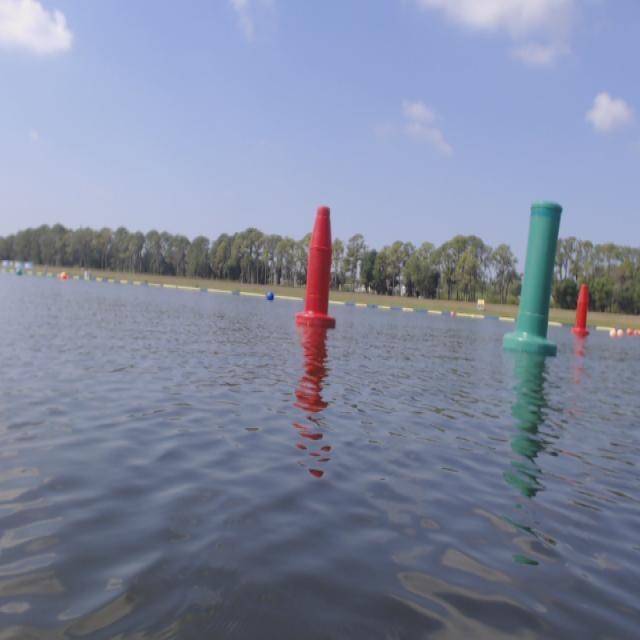Green_Buoy: (529, 199, 554, 361)
Red_Buoy: (306, 202, 331, 341), (578, 285, 590, 339)
